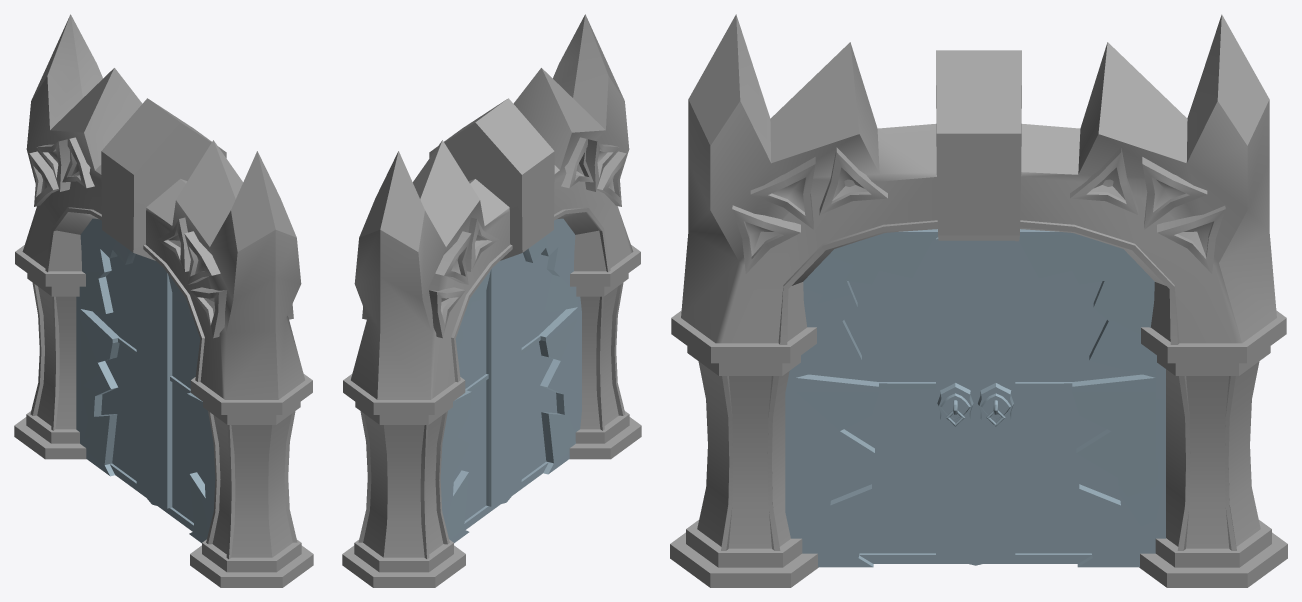
File: Door_Ice.fbx
The picture shows the model from 3 angles, left to right: view 1: azimuth 30°, elevation 25°; view 2: azimuth 150°, elevation 25°; view 3: azimuth 270°, elevation 25°; orthographic projection. The views are drawn at different scales.
Parts seen in each view (by area): view 1: polySurface16, polySurface17, polySurface21; view 2: polySurface16, polySurface21, polySurface17; view 3: polySurface16, polySurface17, polySurface21.
Part boxes in pixels (x1=…): polySurface16: x1=14, y1=14, x2=313, y2=587; polySurface17: x1=76, y1=218, x2=151, y2=503; polySurface21: x1=152, y1=259, x2=215, y2=543; polySurface16: x1=342, y1=14, x2=641, y2=587; polySurface21: x1=506, y1=218, x2=581, y2=501; polySurface17: x1=440, y1=258, x2=506, y2=543; polySurface16: x1=670, y1=14, x2=1287, y2=587; polySurface17: x1=975, y1=229, x2=1165, y2=567; polySurface21: x1=785, y1=229, x2=975, y2=567.
Size of the model in its own units: 1.26 by 5.44 by 5.59.
